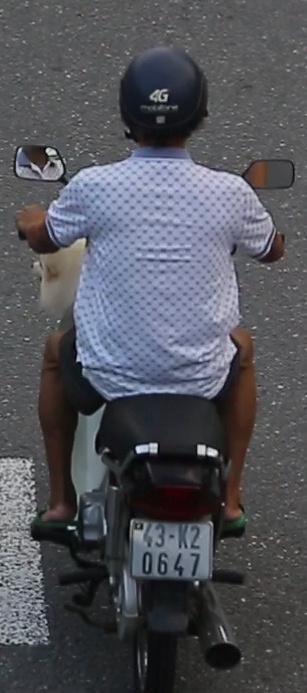LP: (123, 512, 217, 584)
helmet: (116, 45, 215, 169)
